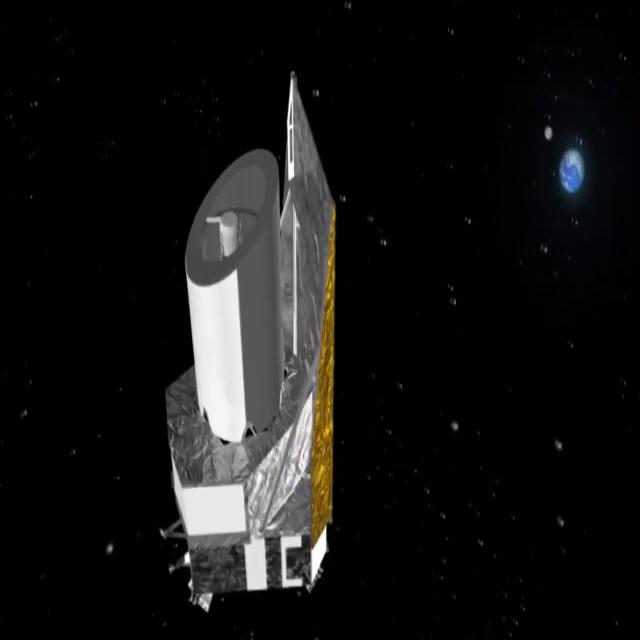medium_debris: (130, 36, 370, 640)
